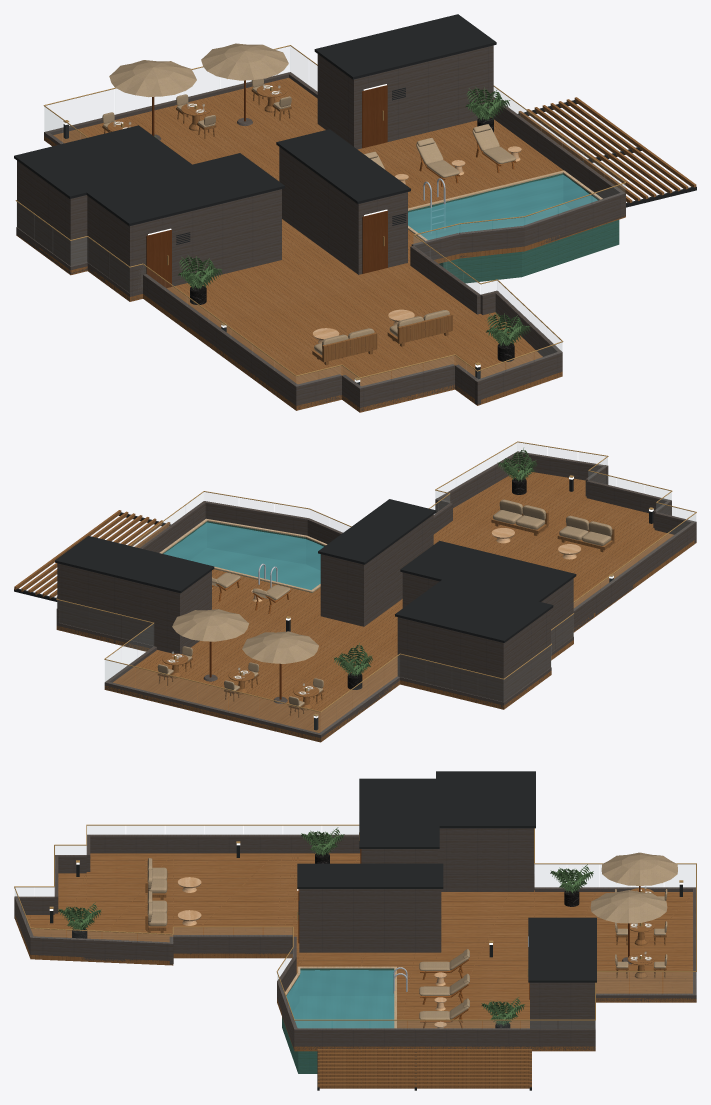
The model's file is interior.glb.
3 views of the same model, one above another, from view 1: azimuth 30°, elevation 25°; view 2: azimuth 150°, elevation 25°; view 3: azimuth 270°, elevation 25° (orthographic). The views are drawn at different scales.
Parts seen in each view (by area): view 1: basalt, teak, frame, pool-tile, linen, water, walnut, leaf, bronze, travertine, limestone, nero (+1 smaller); view 2: basalt, teak, frame, linen, pool-tile, water, bronze, leaf, glass, limestone, travertine, nero; view 3: teak, basalt, frame, linen, water, pool-tile, leaf, bronze, travertine, nero, limestone, oak.
Part boxes in pixels (left/top/right/bottom): basalt: left=16, top=45, right=625, bottom=411; teak: left=16, top=77, right=696, bottom=412; frame: left=14, top=14, right=696, bottom=384; pool-tile: left=408, top=173, right=619, bottom=283; linen: left=102, top=43, right=515, bottom=355; water: left=408, top=174, right=597, bottom=239; walnut: left=146, top=80, right=387, bottom=288; leaf: left=154, top=86, right=530, bottom=346; bronze: left=15, top=45, right=625, bottom=380; travertine: left=313, top=146, right=521, bottom=343; limestone: left=408, top=170, right=602, bottom=240; nero: left=190, top=117, right=514, bottom=361; basalt: left=56, top=451, right=696, bottom=741; teak: left=14, top=470, right=696, bottom=742; frame: left=14, top=479, right=653, bottom=730; linen: left=157, top=499, right=612, bottom=707; pool-tile: left=163, top=521, right=324, bottom=592; water: left=164, top=522, right=323, bottom=590; bronze: left=56, top=441, right=696, bottom=716; leaf: left=333, top=448, right=537, bottom=676; glass: left=105, top=443, right=695, bottom=722; limestone: left=159, top=518, right=327, bottom=592; travertine: left=212, top=528, right=580, bottom=601; nero: left=347, top=478, right=526, bottom=689; teak: left=15, top=853, right=696, bottom=1088; basalt: left=14, top=828, right=696, bottom=1050; frame: left=50, top=771, right=682, bottom=1090; linen: left=147, top=852, right=677, bottom=1019; water: left=286, top=970, right=394, bottom=1028; pool-tile: left=282, top=968, right=394, bottom=1073; leaf: left=58, top=827, right=593, bottom=1025; bronze: left=14, top=824, right=696, bottom=1020; travertine: left=178, top=877, right=446, bottom=1028; nero: left=72, top=853, right=579, bottom=1028; limestone: left=285, top=966, right=396, bottom=1028; oak: left=420, top=959, right=468, bottom=1028.
Size of the model in its own units: 22.44 by 4.1 by 26.4.
18 materials, 9 textured.
